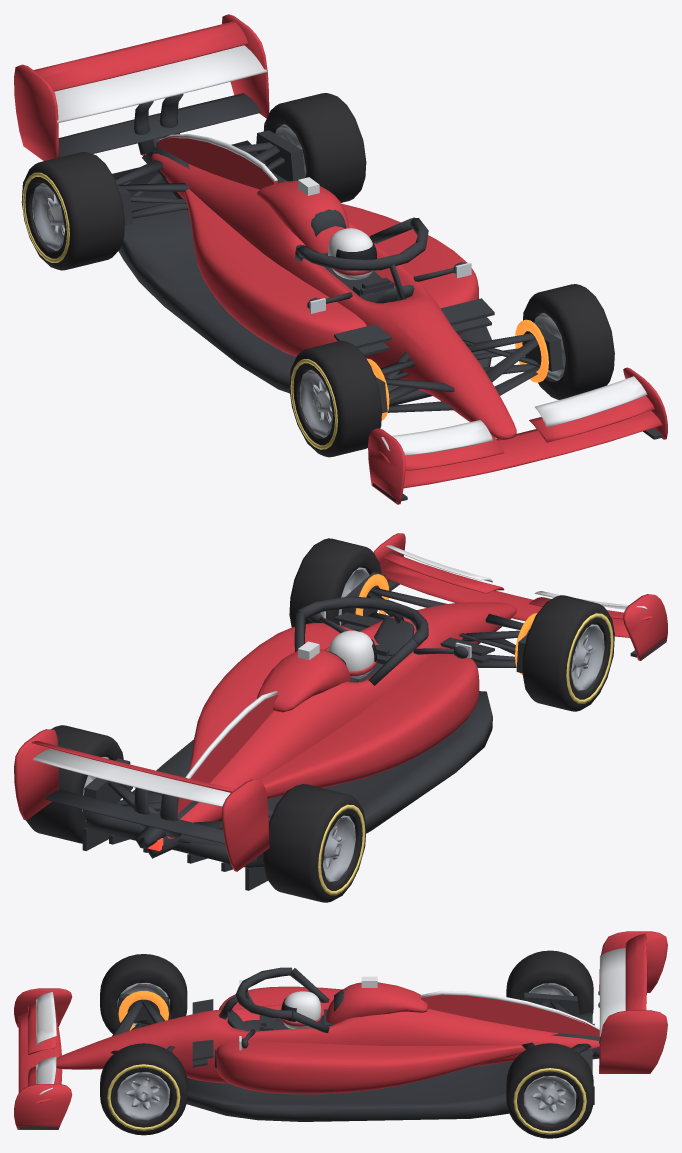
File: formula-car.glb
The picture shows the model from 3 angles, top to bottom: view 1: azimuth 30°, elevation 25°; view 2: azimuth 150°, elevation 25°; view 3: azimuth 270°, elevation 25°; orthographic projection. The views are drawn at different scales.
Parts seen in each view (by area): view 1: chassis, sidepods, floor, tyre_rl, rear_wing_main, tyre_rr, tyre_fl, tyre_fr, rear_wing_flap, rear_wing_endplates, front_wing_main, front_wing_flaps (+18 smaller); view 2: sidepods, chassis, floor, tyre_rl, tyre_fl, rear_wing_endplates, tyre_fr, tyre_rr, airbox, rear_wing_main, halo, front_wing_main (+20 smaller); view 3: chassis, sidepods, floor, rear_wing_endplates, tyre_rr, tyre_fr, shark_fin, tyre_fl, front_wing_endplates, tyre_rl, airbox, rim_fr (+19 smaller).
Part boxes in pixels (x1,y1,x2,y2): chassis: [151, 153, 516, 439]; sidepods: [183, 189, 478, 356]; floor: [112, 140, 491, 405]; tyre_rl: [21, 151, 124, 270]; rear_wing_main: [54, 45, 266, 123]; tyre_rr: [263, 93, 366, 202]; tyre_fl: [289, 340, 381, 457]; tyre_fr: [523, 284, 614, 399]; rear_wing_flap: [33, 21, 248, 91]; rear_wing_endplates: [14, 14, 269, 160]; front_wing_main: [403, 411, 662, 488]; front_wing_flaps: [381, 376, 647, 455]; sidepods: [189, 623, 479, 798]; chassis: [167, 602, 516, 838]; floor: [86, 691, 492, 867]; tyre_rl: [263, 784, 366, 902]; tyre_fl: [522, 595, 614, 711]; rear_wing_endplates: [14, 729, 269, 871]; tyre_fr: [289, 538, 381, 627]; tyre_rr: [26, 725, 123, 843]; airbox: [257, 649, 350, 712]; rear_wing_main: [32, 748, 230, 806]; halo: [294, 596, 428, 685]; front_wing_main: [381, 563, 629, 637]; chassis: [56, 1002, 599, 1083]; sidepods: [216, 986, 525, 1094]; floor: [186, 1012, 592, 1121]; rear_wing_endplates: [599, 931, 667, 1073]; tyre_rr: [506, 1043, 593, 1138]; tyre_fr: [100, 1043, 187, 1135]; shark_fin: [421, 994, 599, 1036]; tyre_fl: [100, 954, 187, 1033]; front_wing_endplates: [14, 988, 72, 1129]; tyre_rl: [506, 950, 593, 1014]; airbox: [326, 982, 428, 1024]; rim_fr: [117, 1072, 169, 1120].
Size of the model in its own units: 2.09 by 0.9649 by 5.07.
